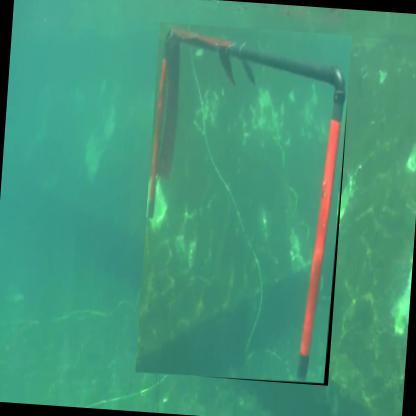gate: (137, 23, 355, 388)
